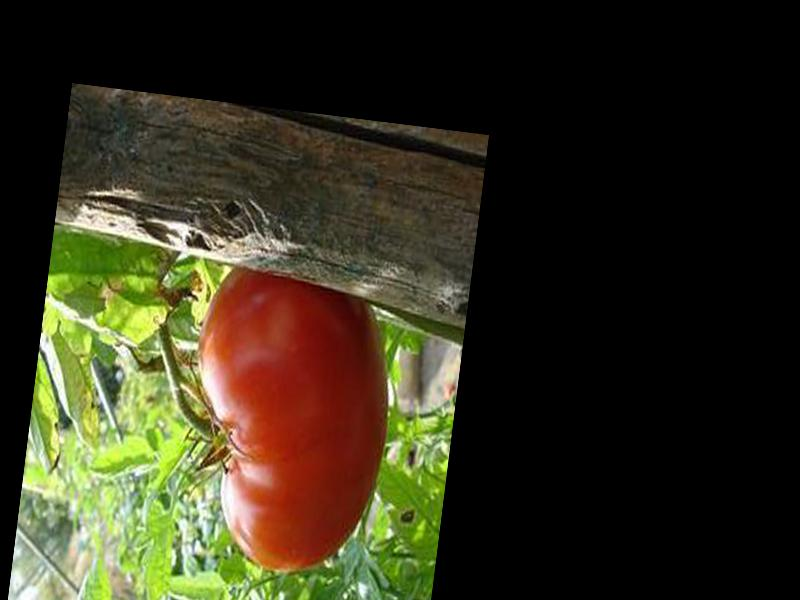Tomato: (172, 259, 402, 582)
